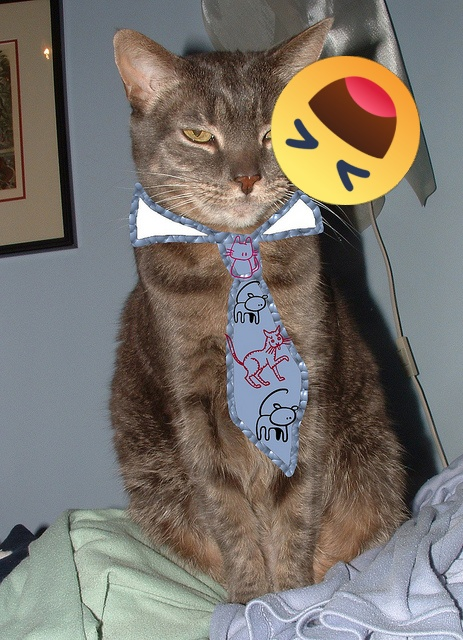haha: (271, 56, 420, 205)
